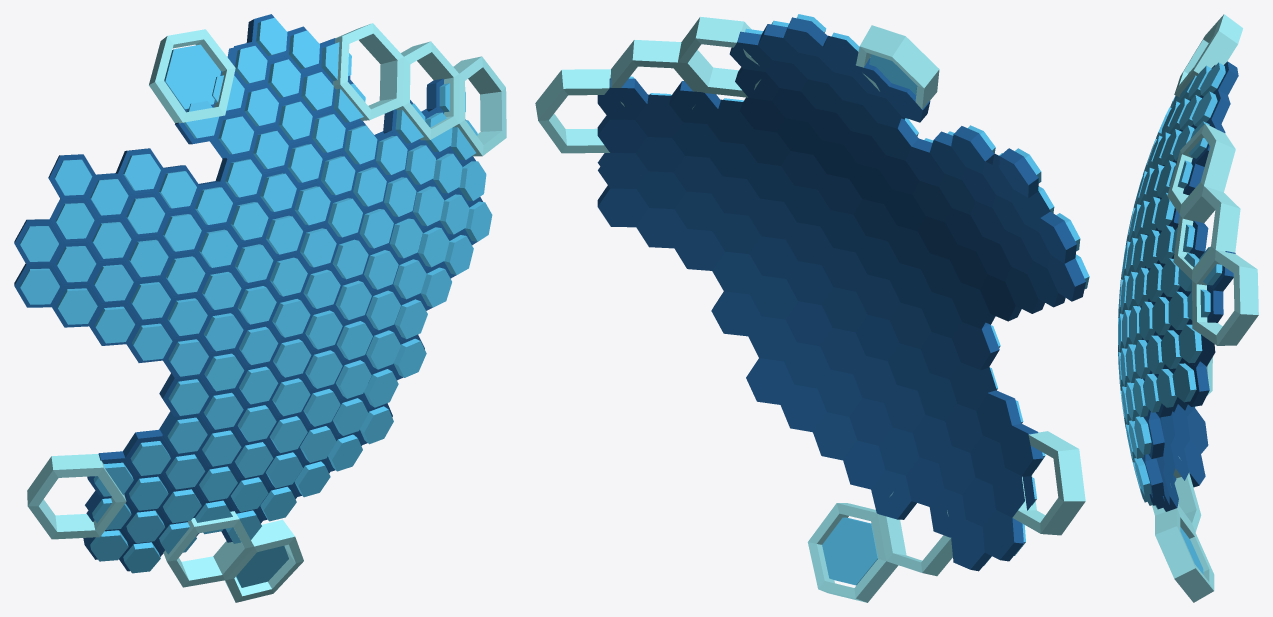
File: escudo_4_racimo.obj
3 views of the same model, side by side, from view 1: azimuth 30°, elevation 25°; view 2: azimuth 150°, elevation 25°; view 3: azimuth 270°, elevation 25° (orthographic). The views are drawn at different scales.
Visible parts, largest first — view 1: escudo_4_racimo; view 2: escudo_4_racimo; view 3: escudo_4_racimo.
Boxes of the visible parts, bbox=[...] form: escudo_4_racimo: bbox=[14, 14, 506, 602]; escudo_4_racimo: bbox=[535, 14, 1089, 602]; escudo_4_racimo: bbox=[1118, 14, 1258, 602].
Size of the model in its own units: 2.35 by 2.5 by 0.5844.
1 material, 1 textured.
